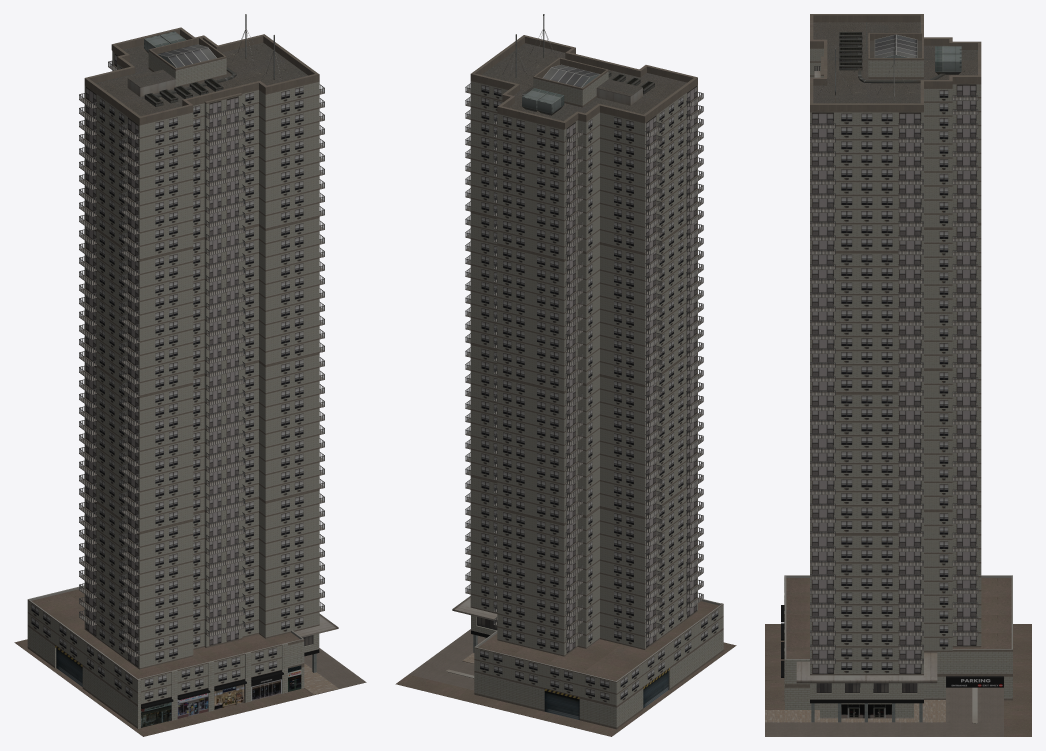
File: new_york_styled_hi_rise_apartment_building.glb
3 views of the same model, side by side, from view 1: azimuth 30°, elevation 25°; view 2: azimuth 150°, elevation 25°; view 3: azimuth 270°, elevation 25° (orthographic). The views are drawn at different scales.
Visible parts, largest first — view 1: hirise1; view 2: hirise1; view 3: hirise1.
Part boxes in pixels (left/top/right/bottom): hirise1: left=14, top=14, right=366, bottom=736; hirise1: left=395, top=14, right=736, bottom=736; hirise1: left=765, top=14, right=1031, bottom=736.
Bounding box in the file's own units: 5400 × 14711 × 5400.
1 material, 1 textured.
